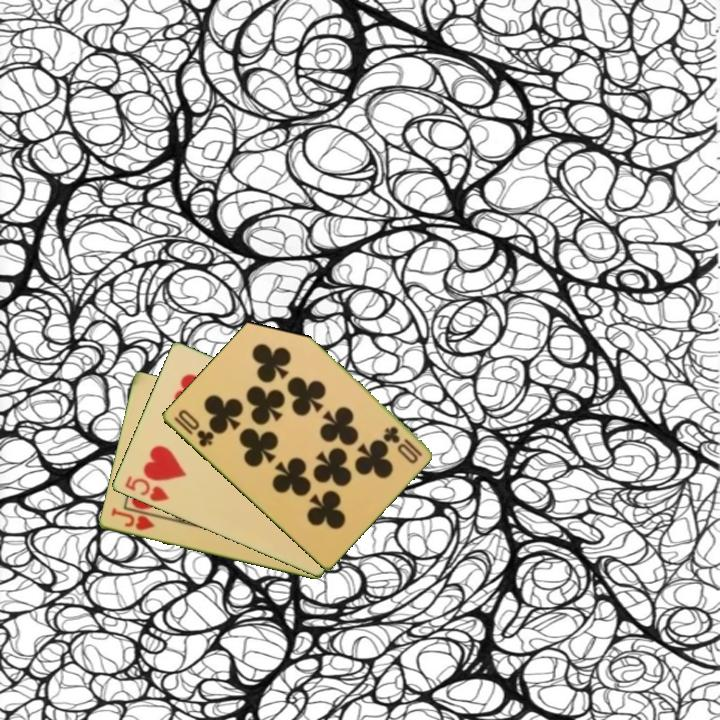10c: (170, 406, 216, 450), (380, 423, 425, 467)
5h: (121, 473, 172, 505)
Jh: (107, 504, 158, 534)
